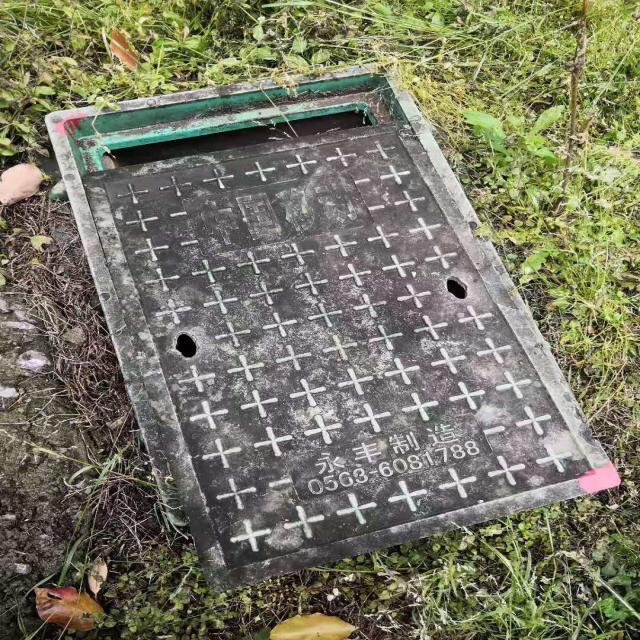Faulty: (43, 58, 618, 588)
